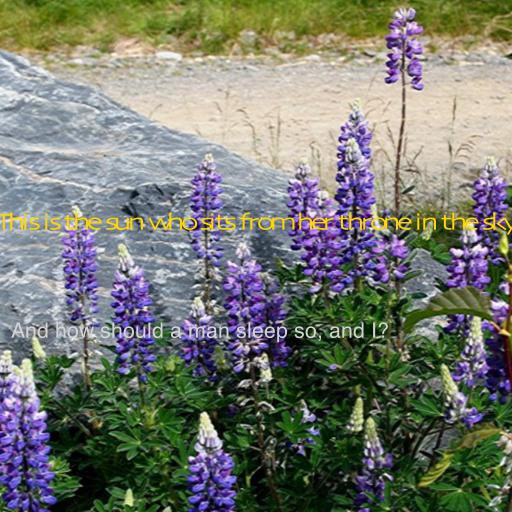SF Pro: (11, 322, 389, 343)
Skia: (0, 212, 512, 235)
